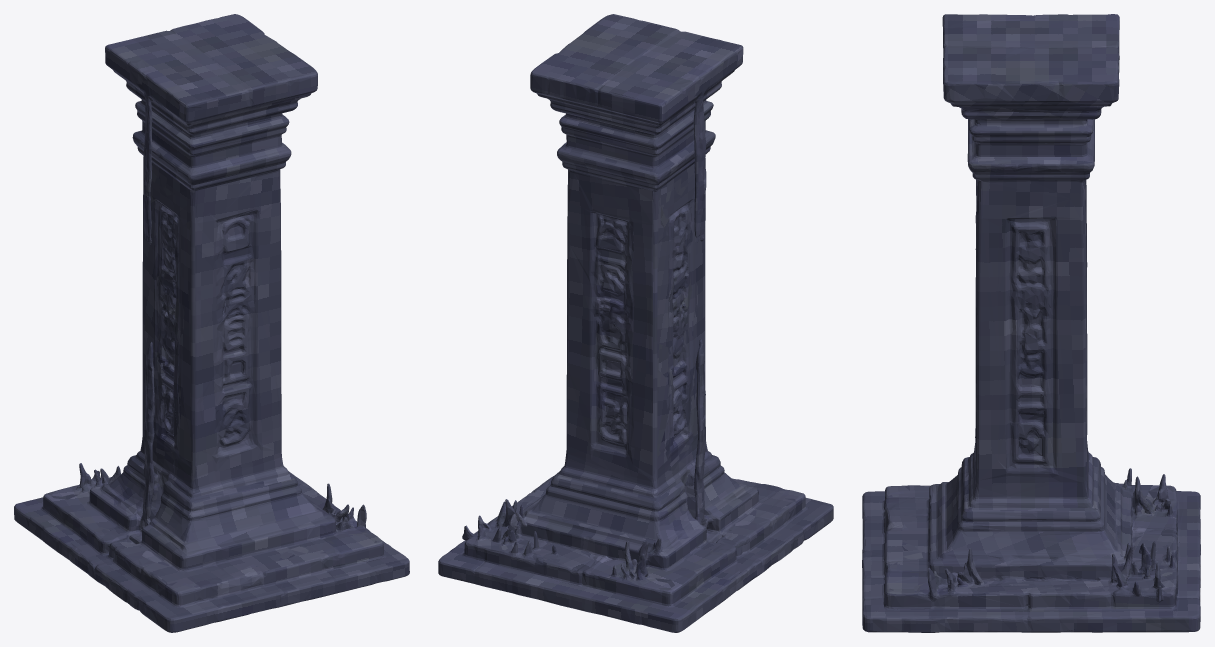
Rendered from weathered-monolith-pillar-generated-2026-04-19T23-36-30-619Z.medium.glb.
3 renders of one model, left to right at view 1: azimuth 30°, elevation 25°; view 2: azimuth 150°, elevation 25°; view 3: azimuth 270°, elevation 25°, orthographic. The views are drawn at different scales.
Parts seen in each view (by area): view 1: temp_mesh.ply; view 2: temp_mesh.ply; view 3: temp_mesh.ply.
Part boxes in pixels (x1=…): temp_mesh.ply: x1=14, y1=14, x2=409, y2=632; temp_mesh.ply: x1=438, y1=14, x2=833, y2=632; temp_mesh.ply: x1=862, y1=14, x2=1200, y2=632.
Size of the model in its own units: 1.03 by 1.96 by 1.15.
Materials: 1 (1 with a texture image).
